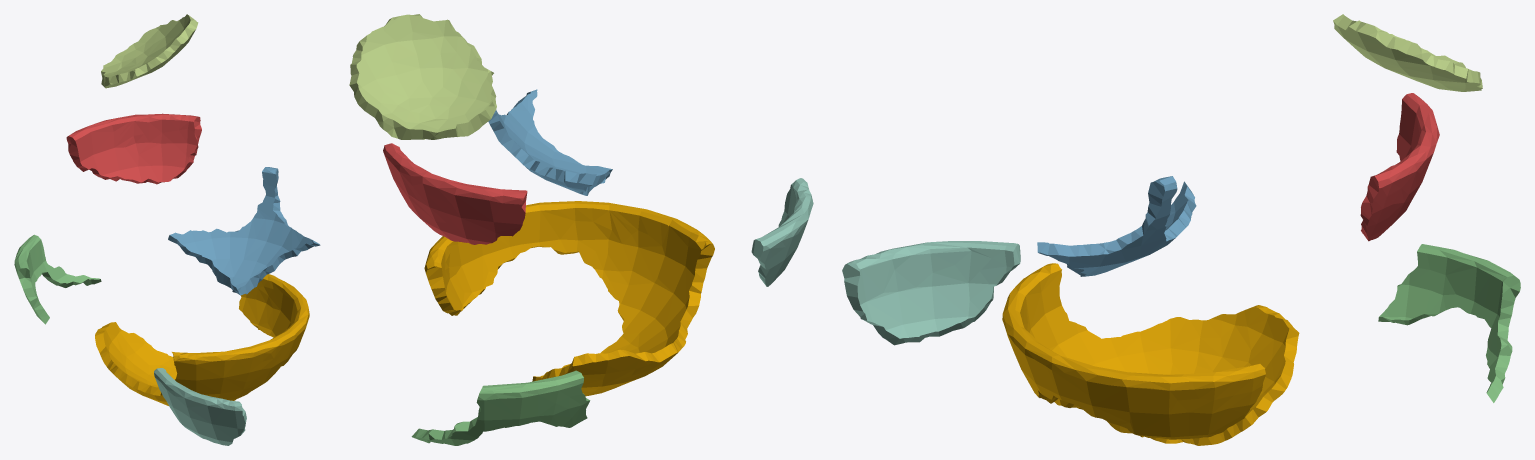
File: mode_9_6pcs_transformed.glb
The picture shows the model from 3 angles, left to right: view 1: azimuth 30°, elevation 25°; view 2: azimuth 150°, elevation 25°; view 3: azimuth 270°, elevation 25°; orthographic projection. The views are drawn at different scales.
Parts seen in each view (by area): view 1: piece_0.obj, piece_1.obj, piece_2.obj, piece_4.obj, piece_5.obj, piece_3.obj; view 2: piece_0.obj, piece_5.obj, piece_1.obj, piece_3.obj, piece_2.obj, piece_4.obj; view 3: piece_0.obj, piece_4.obj, piece_3.obj, piece_2.obj, piece_1.obj, piece_5.obj.
Boxes of the visible parts, x1,y1,x2,y2 form: piece_0.obj: (95,274,309,405); piece_1.obj: (66,113,201,184); piece_2.obj: (168,167,320,295); piece_4.obj: (154,368,246,445); piece_5.obj: (101,14,198,88); piece_3.obj: (14,234,101,324); piece_0.obj: (424,201,714,396); piece_5.obj: (349,14,496,139); piece_1.obj: (383,143,527,244); piece_3.obj: (411,370,590,445); piece_2.obj: (488,89,612,195); piece_4.obj: (751,178,813,286); piece_0.obj: (1002,263,1299,445); piece_4.obj: (842,241,1020,345); piece_3.obj: (1378,244,1520,402); piece_2.obj: (1037,176,1196,276); piece_1.obj: (1360,93,1439,241); piece_5.obj: (1333,14,1482,91).
Size of the model in its own units: 0.9984 by 1.5 by 2.02.
